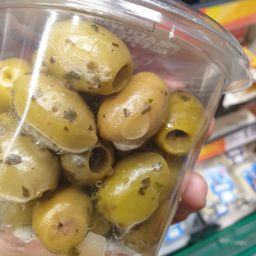Olives: (4, 13, 200, 256), (6, 5, 192, 256), (35, 15, 161, 157), (12, 63, 99, 163), (95, 51, 173, 159), (29, 179, 97, 254), (163, 66, 207, 168), (2, 135, 66, 204)
